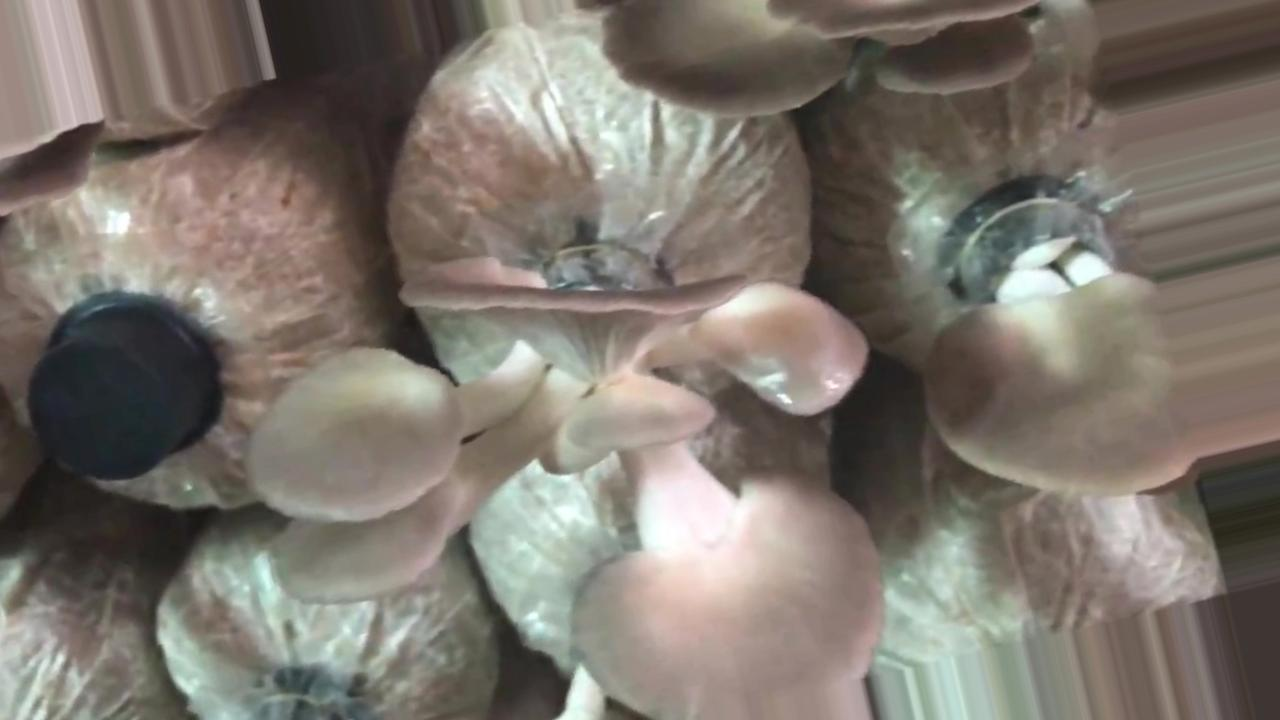nam: (241, 241, 888, 720), (918, 170, 1213, 502), (587, 1, 1041, 121)
